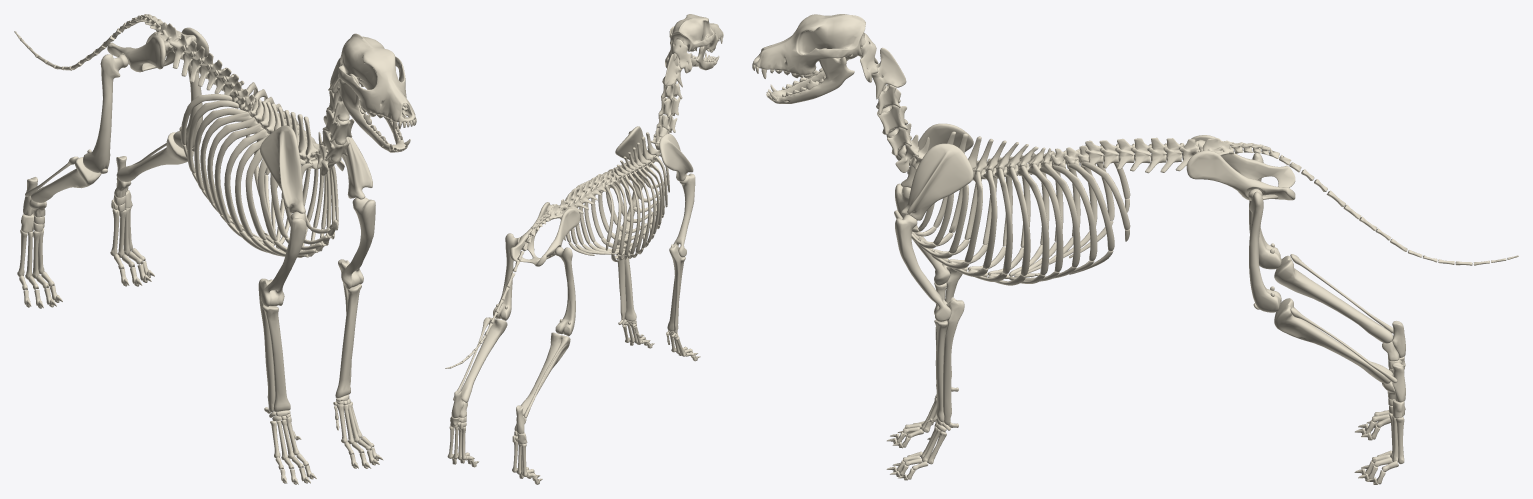
Rendered from Hund-Skelett.glb.
3 views of the same model, side by side, from view 1: azimuth 30°, elevation 25°; view 2: azimuth 150°, elevation 25°; view 3: azimuth 270°, elevation 25° (orthographic). The views are drawn at different scales.
Visible parts, largest first — view 1: Skeleton; view 2: Skeleton; view 3: Skeleton.
Boxes of the visible parts, x1,y1,x2,y2 form: Skeleton: (14,14,416,484); Skeleton: (445,14,723,484); Skeleton: (752,14,1518,484).
Bounding box in the file's own units: 0.2116 × 0.7434 × 1.16.
